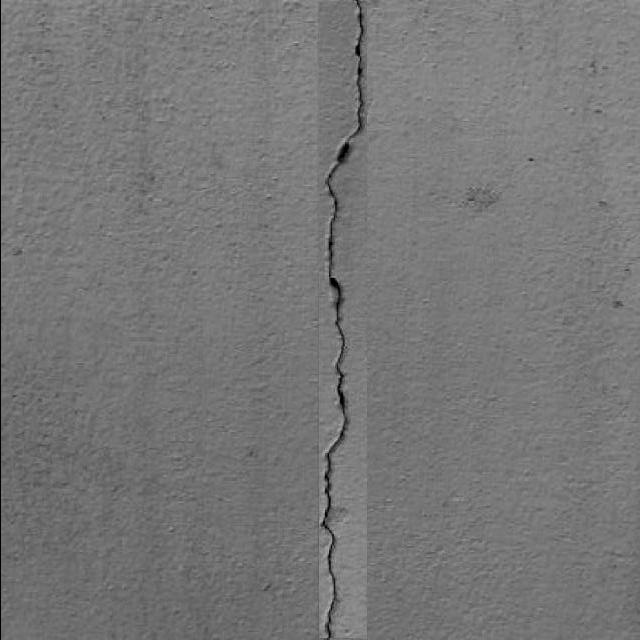crack: (317, 0, 369, 639), (314, 61, 327, 640), (319, 400, 340, 636), (346, 1, 369, 143)
